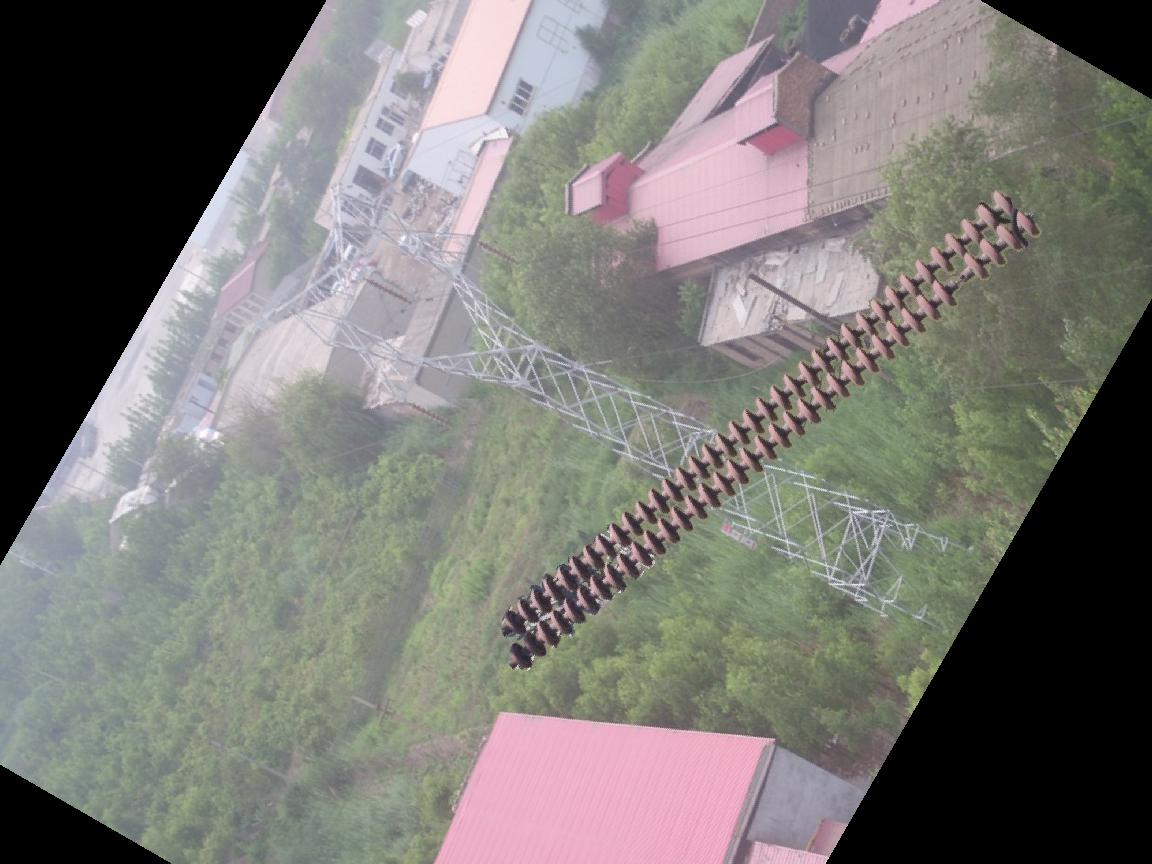insulator: (498, 186, 1043, 675)
insulator_stringdrop: (930, 250, 992, 310)
